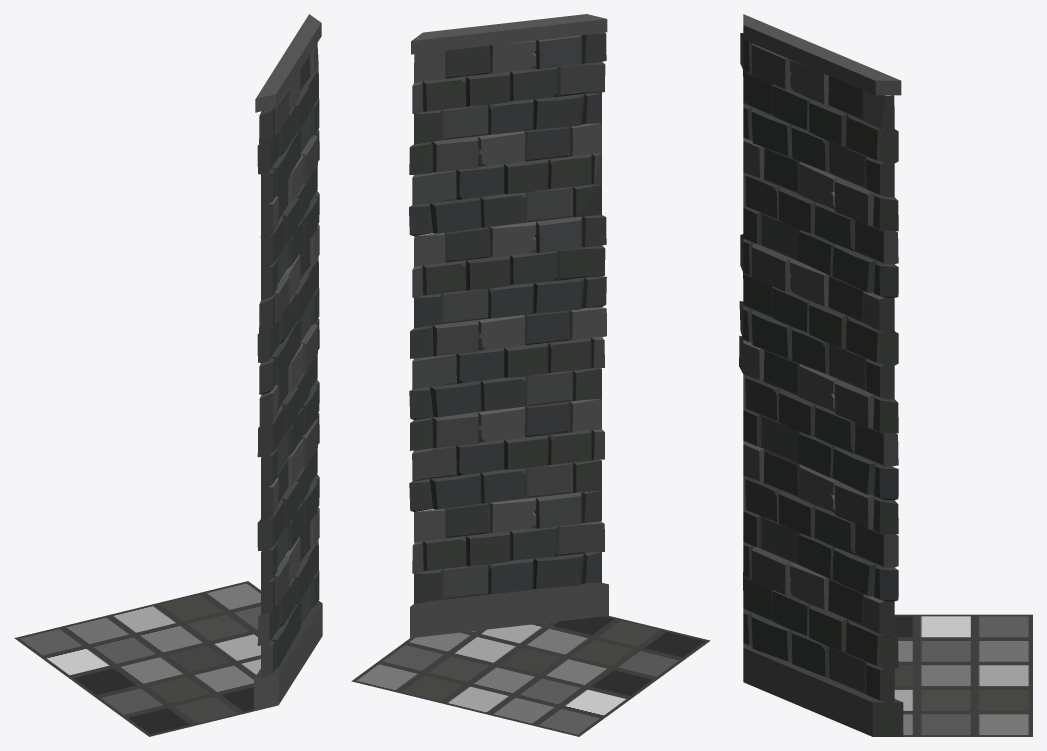
The model's file is Dungeon_Tilemap_01.gltf.
The picture shows the model from 3 angles, left to right: view 1: azimuth 30°, elevation 25°; view 2: azimuth 150°, elevation 25°; view 3: azimuth 270°, elevation 25°; orthographic projection. The views are drawn at different scales.
Parts seen in each view (by area): view 1: Dungeon_Tilemap_01; view 2: Dungeon_Tilemap_01; view 3: Dungeon_Tilemap_01.
Boxes of the visible parts, x1,y1,x2,y2 form: Dungeon_Tilemap_01: (14,14,322,736); Dungeon_Tilemap_01: (351,14,710,736); Dungeon_Tilemap_01: (739,14,1032,736).
Bounding box in the file's own units: 1.01 × 2.5 × 1.01.
2 materials, 2 textured.
